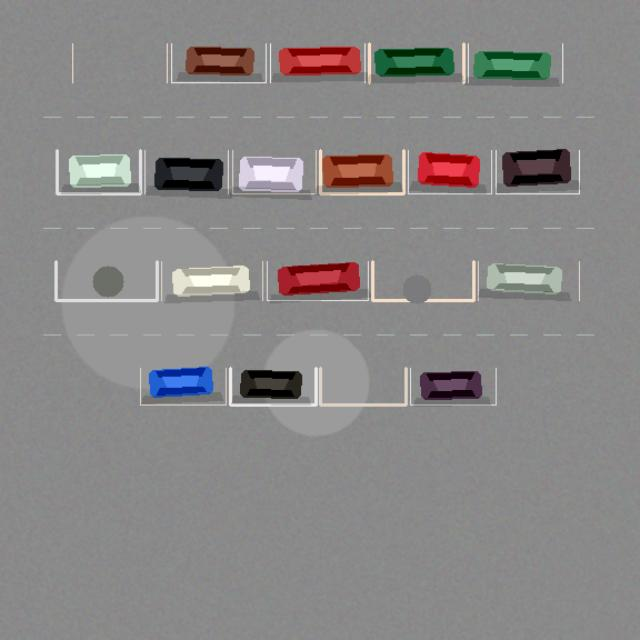space-empty: (56, 261, 157, 300), (372, 261, 473, 300), (72, 43, 167, 82), (320, 368, 406, 404)
space-occupied: (161, 261, 262, 300), (267, 261, 368, 300), (478, 261, 579, 300), (171, 43, 266, 82), (270, 43, 364, 82), (369, 43, 463, 82), (468, 43, 562, 82), (144, 150, 228, 193), (232, 150, 316, 193), (57, 150, 140, 193), (320, 150, 403, 193), (408, 150, 491, 193), (496, 150, 579, 193), (140, 368, 226, 404), (230, 368, 316, 404), (410, 368, 496, 404)
